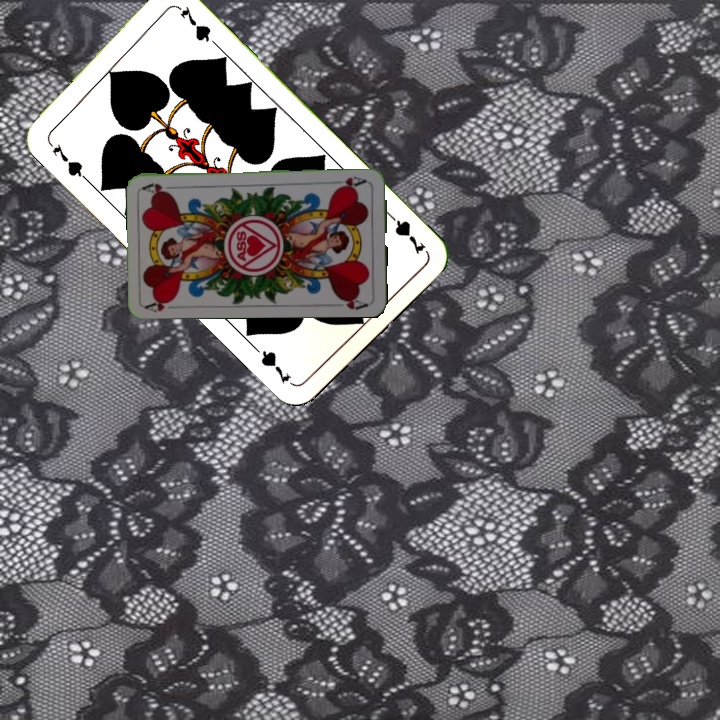G7: (381, 207, 429, 257), (43, 136, 89, 182)
HA: (142, 294, 182, 314), (333, 172, 369, 192)
